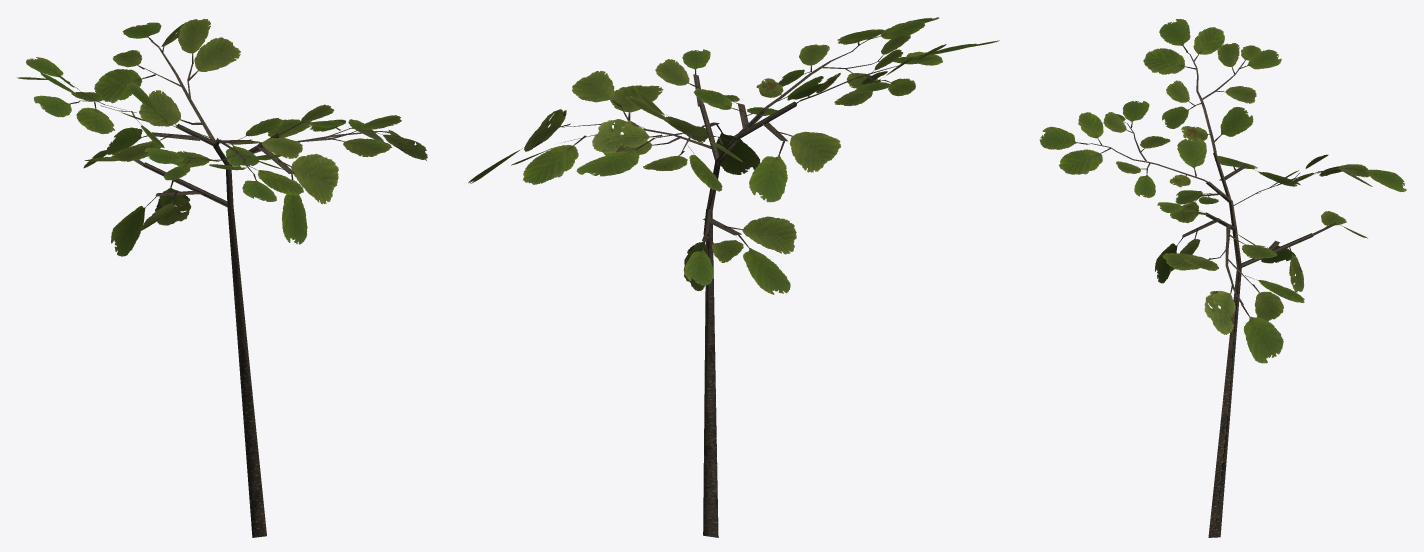
The model's file is SM_BlackAlder_Sapling_01_PP_LOD3.gltf.
3 renders of one model, left to right at view 1: azimuth 30°, elevation 25°; view 2: azimuth 150°, elevation 25°; view 3: azimuth 270°, elevation 25°, orthographic. The views are drawn at different scales.
Visible parts, largest first — view 1: SM_BlackAlder_Sapling_01_PP; view 2: SM_BlackAlder_Sapling_01_PP; view 3: SM_BlackAlder_Sapling_01_PP.
Part boxes in pixels (bbox=[...]): SM_BlackAlder_Sapling_01_PP: bbox=[17, 18, 427, 537]; SM_BlackAlder_Sapling_01_PP: bbox=[468, 17, 999, 537]; SM_BlackAlder_Sapling_01_PP: bbox=[1039, 19, 1406, 537].
Bounding box in the file's own units: 0.9028 × 0.9894 × 0.7866.
1 material, 1 textured.
